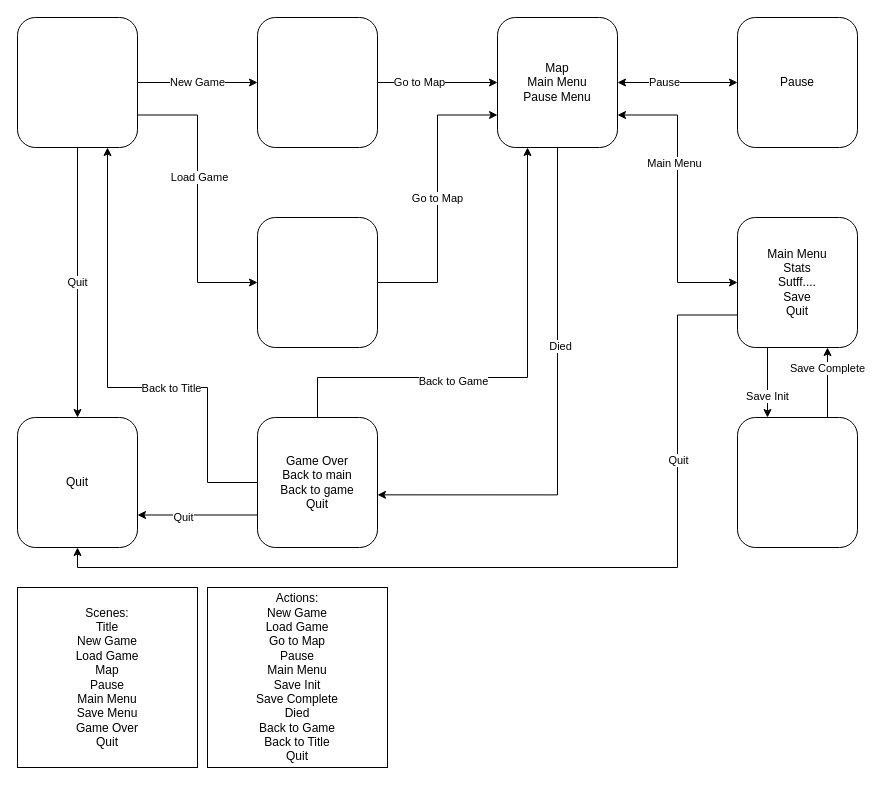
Image size: 882x785. Some labels were removed from this diagram. The shapes that lost their labels are listed below. From the top down, each one's centre as x and y in pixels, then its label:
the point at 77,82: Title New Game Load Game Quit
the point at 317,82: New Game Dialog Enter Info
the point at 317,282: Load Game Select game
the point at 797,482: Save Game
